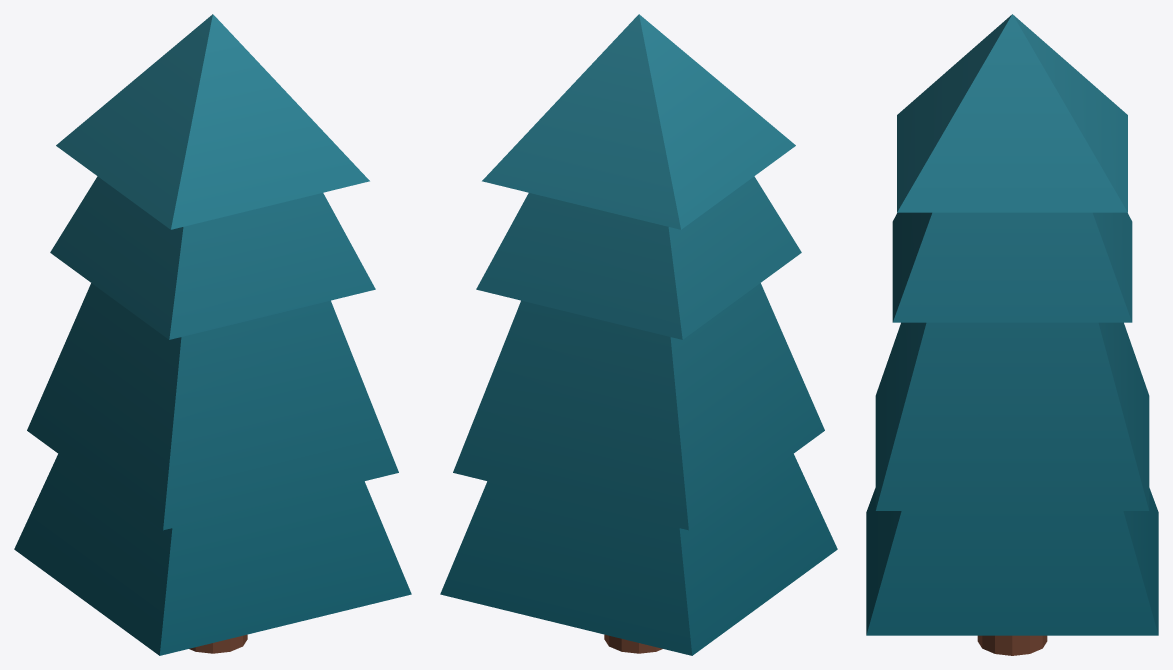
The model's file is Tree_17_gradient_blue_vc.fbx.
The picture shows the model from 3 angles, left to right: view 1: azimuth 30°, elevation 25°; view 2: azimuth 150°, elevation 25°; view 3: azimuth 270°, elevation 25°; orthographic projection.
Parts seen in each view (by area): view 1: Tree_17_gradient_blue_vc; view 2: Tree_17_gradient_blue_vc; view 3: Tree_17_gradient_blue_vc.
Boxes of the visible parts, x1,y1,x2,y2 form: Tree_17_gradient_blue_vc: (14, 14, 411, 655); Tree_17_gradient_blue_vc: (440, 14, 837, 655); Tree_17_gradient_blue_vc: (866, 14, 1158, 655).
Size of the model in its own units: 65.5 by 155 by 65.5.
